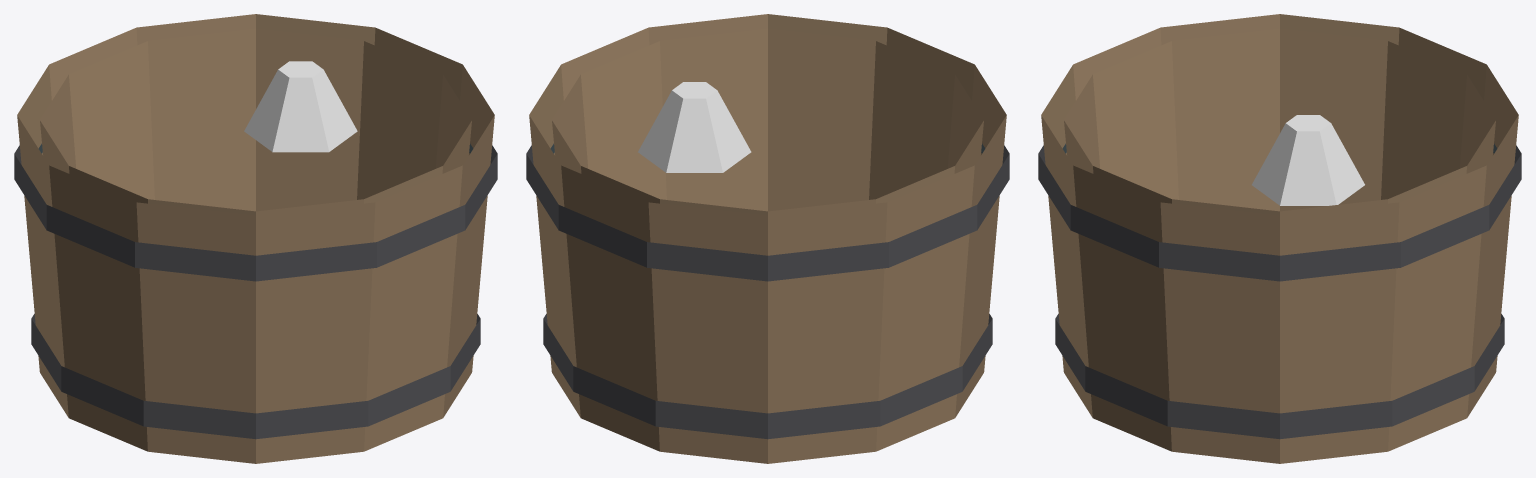
The model's file is prop-quench-barrel.fbx.
3 renders of one model, left to right at view 1: azimuth 30°, elevation 25°; view 2: azimuth 150°, elevation 25°; view 3: azimuth 270°, elevation 25°, orthographic.
Visible parts, largest first — view 1: prop-quench-barrel; view 2: prop-quench-barrel; view 3: prop-quench-barrel.
Part boxes in pixels (<box>): prop-quench-barrel: <box>14,14,497,463</box>; prop-quench-barrel: <box>526,14,1009,463</box>; prop-quench-barrel: <box>1038,14,1521,463</box>.
Bounding box in the file's own units: 0.85 × 0.54 × 0.85.
